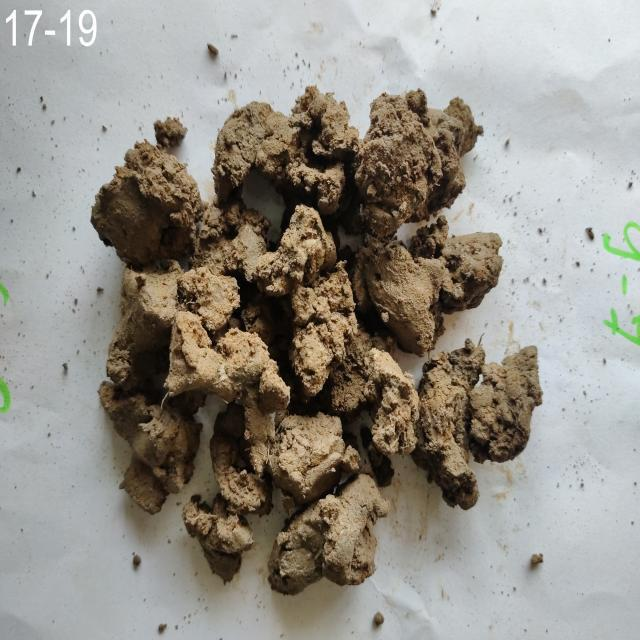soil: (158, 199, 398, 483)
